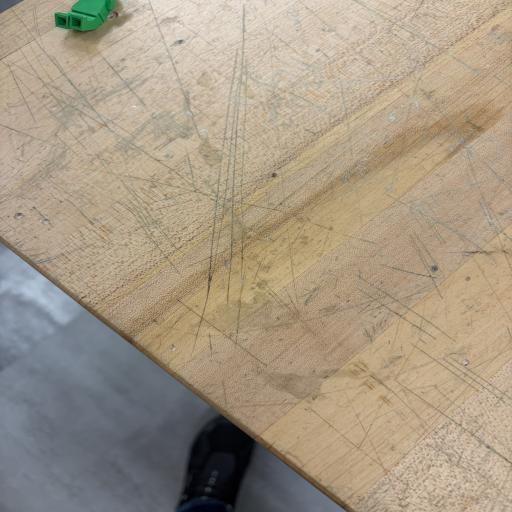Green-Lego: (54, 0, 126, 39)
